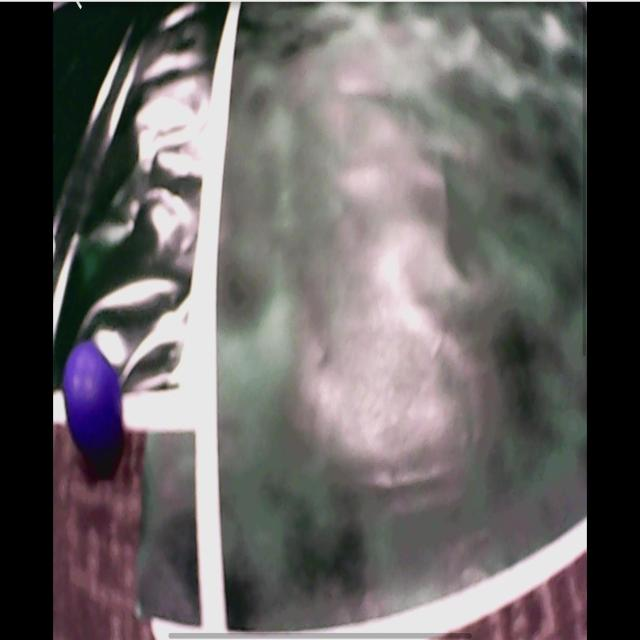ball: (65, 343, 122, 449)
